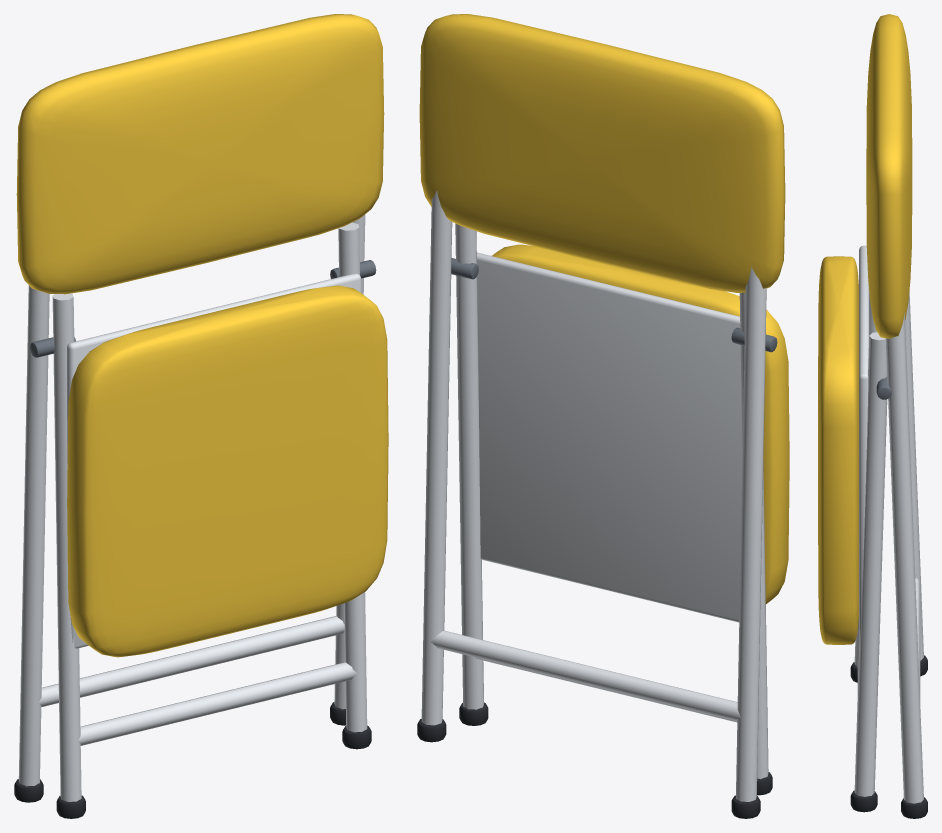
The model's file is cadeira_dobravel_fechada_amarela.glb.
The picture shows the model from 3 angles, left to right: view 1: azimuth 30°, elevation 25°; view 2: azimuth 150°, elevation 25°; view 3: azimuth 270°, elevation 25°; orthographic projection. The views are drawn at different scales.
Visible parts, largest first — view 1: cadeira_dobravel_fechada_amarela; view 2: cadeira_dobravel_fechada_amarela; view 3: cadeira_dobravel_fechada_amarela.
Part boxes in pixels (x1=…): cadeira_dobravel_fechada_amarela: x1=14, y1=14, x2=388, y2=818; cadeira_dobravel_fechada_amarela: x1=417, y1=14, x2=789, y2=818; cadeira_dobravel_fechada_amarela: x1=818, y1=14, x2=927, y2=818.
Size of the model in its own units: 0.46 by 0.8754 by 0.131.
1 material, 1 textured.
